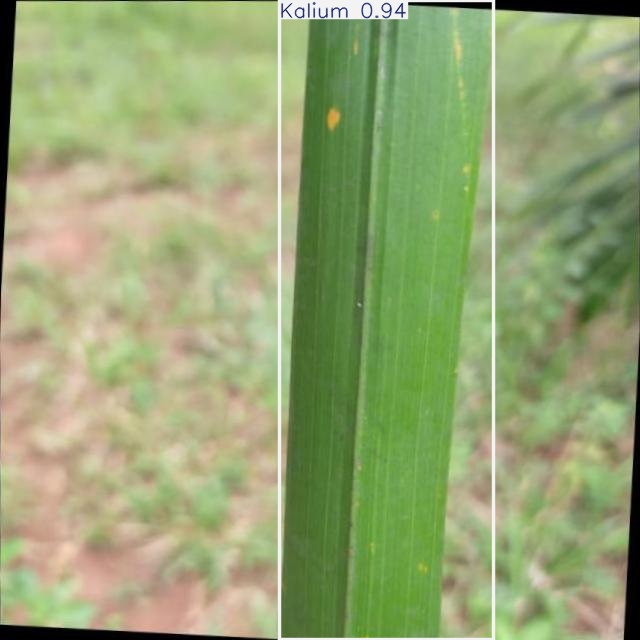Kalium: (279, 1, 493, 639)
